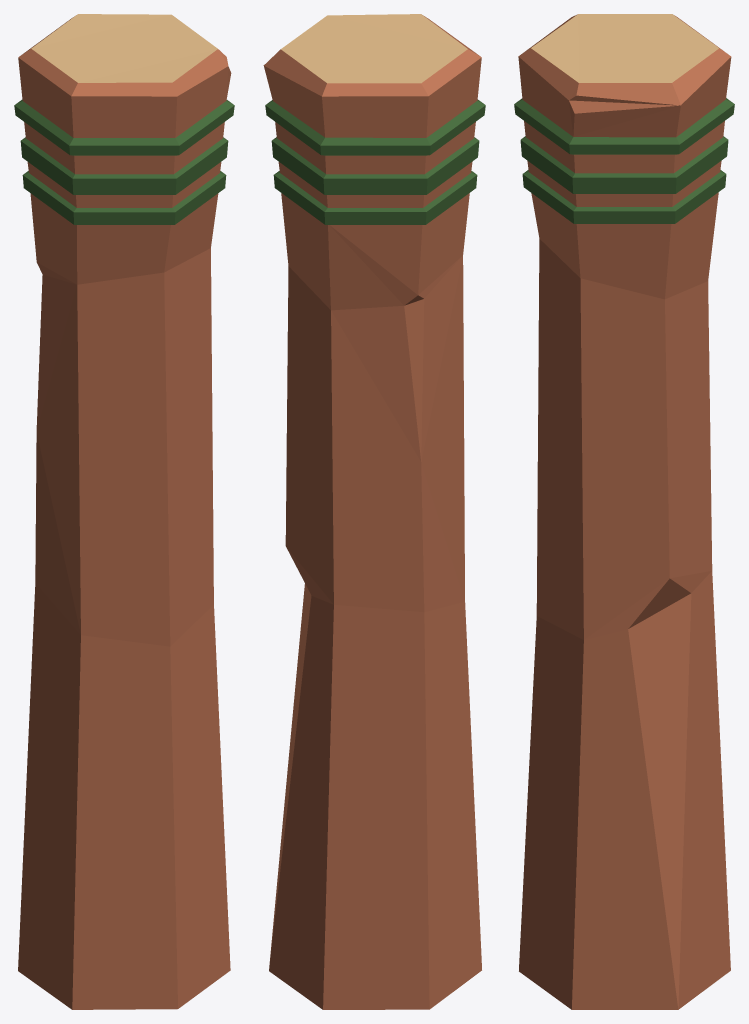
File: Fence_Bar_2.fbx
The picture shows the model from 3 angles, left to right: view 1: azimuth 30°, elevation 25°; view 2: azimuth 150°, elevation 25°; view 3: azimuth 270°, elevation 25°; orthographic projection.
Visible parts, largest first — view 1: Fence_Bar; view 2: Fence_Bar; view 3: Fence_Bar.
Boxes of the visible parts, x1=… form: Fence_Bar: x1=14, y1=14, x2=234, y2=1009; Fence_Bar: x1=263, y1=14, x2=485, y2=1009; Fence_Bar: x1=514, y1=14, x2=734, y2=1009.
Bounding box in the file's own units: 0.2006 × 1.06 × 0.23.
